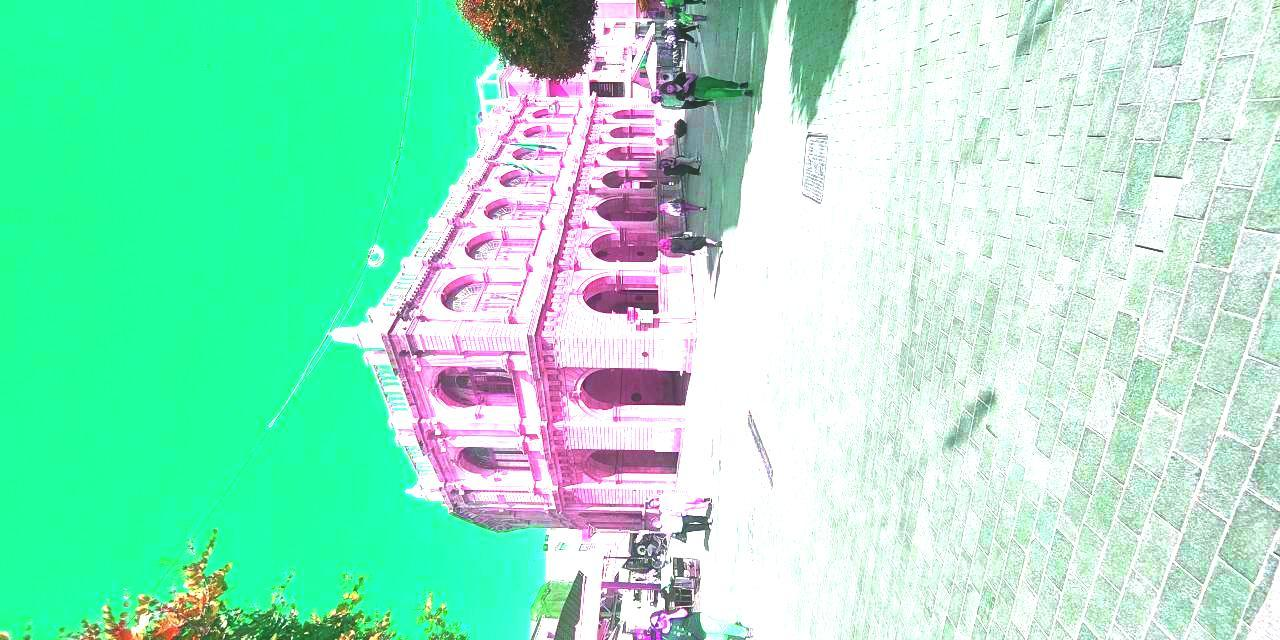Loggia: (95, 1, 492, 279)
